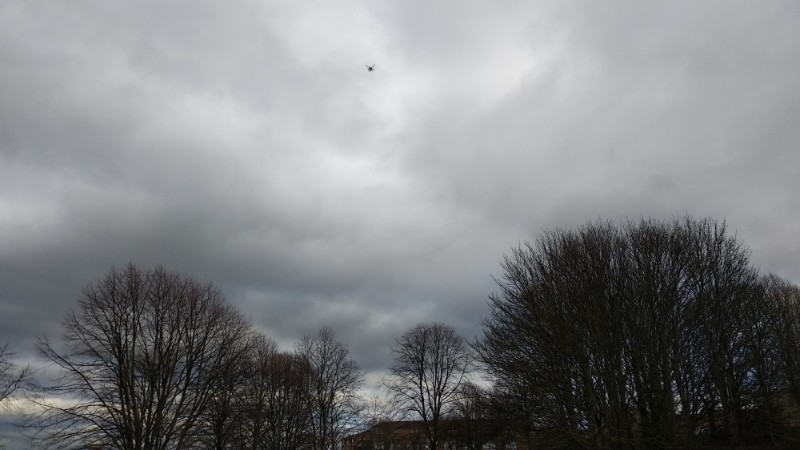drone: (365, 62, 376, 72)
